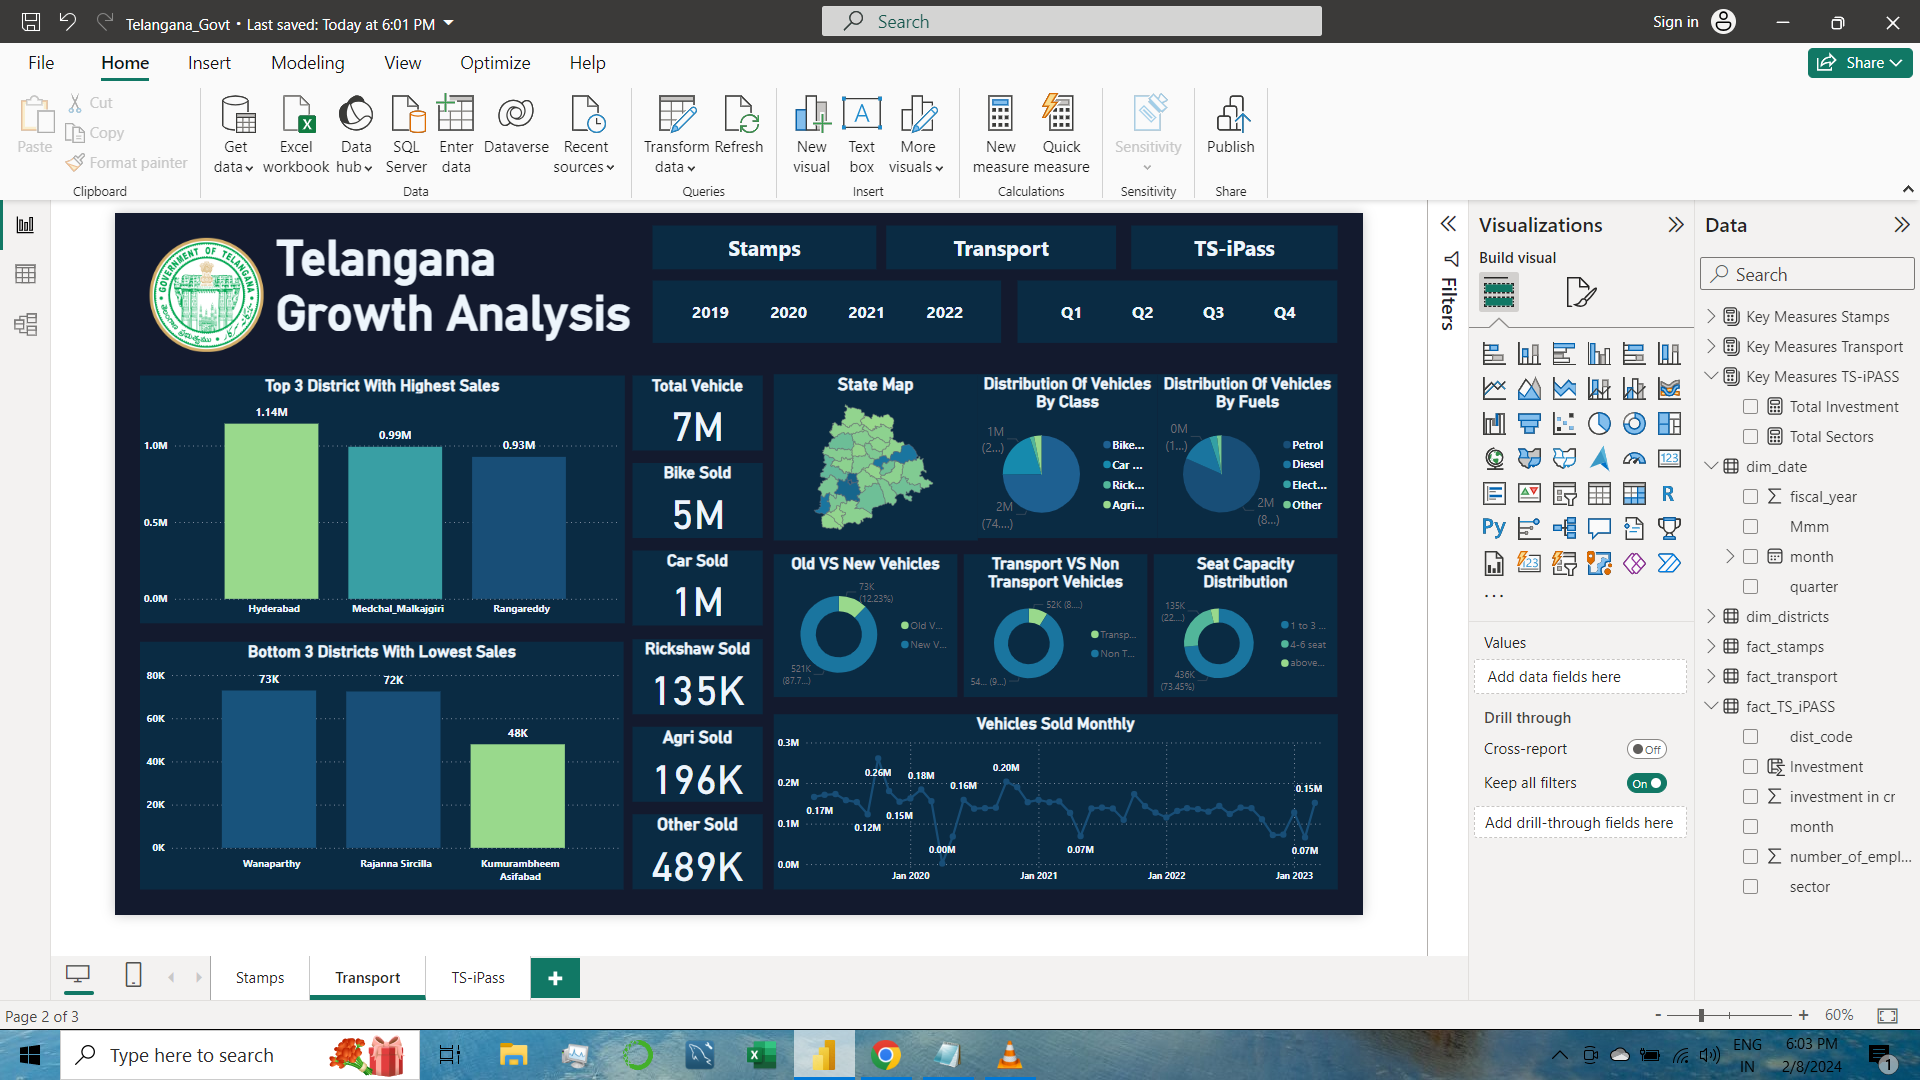

What the dashboard file says about the page in this screenshot:
{"tool":"powerbi","page":{"name":"Transport","canvas":[1664,936],"ordinal":1},"visuals":[{"type":"slicer","fields":{"Values":["dim_date.fiscal_year"]},"box":[716.7,90,465,83.3],"z":0},{"type":"slicer","fields":{"Values":["dim_date.quarter"]},"box":[1203.3,90,426.7,83.3],"z":1000},{"type":"clusteredColumnChart","title":"Top 3 District With Highest Sales","fields":{"Category":["dim_districts.district"],"Y":["Key Measures Transport.Total Vehicle Sold"]},"box":[34,216,646,330],"z":2000},{"type":"clusteredColumnChart","title":"Bottom 3 Districts With Lowest Sales","fields":{"Category":["dim_districts.district"],"Y":["Key Measures Transport.Total Vehicle Sold"]},"box":[33.3,571.7,645,330],"z":3000},{"type":"lineChart","title":"Vehicles Sold Monthly","fields":{"Category":["dim_date.month"],"Y":["Key Measures Transport.Total Vehicle Sold"]},"box":[878.3,668.3,751.7,233.3],"z":4000},{"type":"donutChart","title":"Old VS New Vehicles","fields":{"Y":["Key Measures Transport.Old Vehicles","Key Measures Transport.New Vehicles"]},"box":[878.3,455,245,190],"z":5000},{"type":"pieChart","title":"Distribution Of Vehicles By Class","fields":{"Y":["Key Measures Transport.Bike sOLD","Key Measures Transport.Car Sold","Key Measures Transport.Rickshaw Sold","Key Measures Transport.Agriculture Sold"]},"box":[1150,215,240,218.8],"z":6000},{"type":"card","title":"Other Sold","fields":{"Values":["Key Measures Transport.Other Vechile Sold"]},"box":[690,801.7,173.3,100],"z":7000},{"type":"card","title":"Agri Sold","fields":{"Values":["Key Measures Transport.Agriculture Sold"]},"box":[690,684.7,173.3,100],"z":8000},{"type":"card","title":"Rickshaw Sold","fields":{"Values":["Key Measures Transport.Rickshaw Sold"]},"box":[690,567.7,173.3,100],"z":9000},{"type":"card","title":"Car Sold","fields":{"Values":["Key Measures Transport.Used Vehicles Sold"]},"box":[690,450.7,173.3,100],"z":10000},{"type":"shapeMap","title":"State Map","fields":{"Category":["dim_districts.district"],"Value":["Key Measures Transport.Total Vehicle Sold"]},"box":[878.3,215,271.7,221.7],"z":11000},{"type":"card","title":"Bike Sold","fields":{"Values":["Key Measures Transport.New Vehicles Sold"]},"box":[690,333.7,173.3,100],"z":12000},{"type":"card","title":"Total Vehicle ","fields":{"Values":["Key Measures Transport.Total Vehicle Sold"]},"box":[690,216.7,173.3,100],"z":13000},{"type":"image","box":[33.3,28.3,176.7,161.7],"z":14000},{"type":"textbox","box":[210,16.7,506.7,173.3],"z":15000},{"type":"actionButton","box":[716.7,16.7,298.3,58.3],"z":16000},{"type":"actionButton","box":[1355,16.7,275,58.3],"z":17000},{"type":"actionButton","box":[1028.3,16.7,306.7,58.3],"z":18000},{"type":"donutChart","title":"Transport VS Non Transport Vehicles","fields":{"Y":["Key Measures Transport.Transport Vehicles","Key Measures Transport.Non Transport"]},"box":[1131.7,455,245,190],"z":19000},{"type":"donutChart","title":"Seat Capacity Distribution","fields":{"Y":["Key Measures Transport.1 to 3 seat","Key Measures Transport.4-6 seat","Key Measures Transport.above 6 seat"]},"box":[1385,455,245,190],"z":20000},{"type":"pieChart","title":"Distribution Of Vehicles By Fuels","fields":{"Y":["Key Measures Transport.Petrol","Key Measures Transport.Diesel","Key Measures Transport.Electric","Key Measures Transport.Other Fuel type"]},"box":[1390,215,240,218.3],"z":21000}]}

Visuals, with their boxes on the page's 1664x936 design canvas (x1, y1, x2, y2). These are canvas units, not pixel positions in the 1920x1080 screenshot, which may show the page scaled, cropped or inside an application window:
slicer - dim_date.fiscal_year: {"x1": 717, "y1": 90, "x2": 1182, "y2": 173}
slicer - dim_date.quarter: {"x1": 1203, "y1": 90, "x2": 1630, "y2": 173}
"Top 3 District With Highest Sales" clusteredColumnChart: {"x1": 34, "y1": 216, "x2": 680, "y2": 546}
"Bottom 3 Districts With Lowest Sales" clusteredColumnChart: {"x1": 33, "y1": 572, "x2": 678, "y2": 902}
"Vehicles Sold Monthly" lineChart: {"x1": 878, "y1": 668, "x2": 1630, "y2": 902}
"Old VS New Vehicles" donutChart: {"x1": 878, "y1": 455, "x2": 1123, "y2": 645}
"Distribution Of Vehicles By Class" pieChart: {"x1": 1150, "y1": 215, "x2": 1390, "y2": 434}
"Other Sold" card: {"x1": 690, "y1": 802, "x2": 863, "y2": 902}
"Agri Sold" card: {"x1": 690, "y1": 685, "x2": 863, "y2": 785}
"Rickshaw Sold" card: {"x1": 690, "y1": 568, "x2": 863, "y2": 668}
"Car Sold" card: {"x1": 690, "y1": 451, "x2": 863, "y2": 551}
"State Map" shapeMap: {"x1": 878, "y1": 215, "x2": 1150, "y2": 437}
"Bike Sold" card: {"x1": 690, "y1": 334, "x2": 863, "y2": 434}
"Total Vehicle " card: {"x1": 690, "y1": 217, "x2": 863, "y2": 317}
image: {"x1": 33, "y1": 28, "x2": 210, "y2": 190}
textbox: {"x1": 210, "y1": 17, "x2": 717, "y2": 190}
actionButton: {"x1": 717, "y1": 17, "x2": 1015, "y2": 75}
actionButton: {"x1": 1355, "y1": 17, "x2": 1630, "y2": 75}
actionButton: {"x1": 1028, "y1": 17, "x2": 1335, "y2": 75}
"Transport VS Non Transport Vehicles" donutChart: {"x1": 1132, "y1": 455, "x2": 1377, "y2": 645}
"Seat Capacity Distribution" donutChart: {"x1": 1385, "y1": 455, "x2": 1630, "y2": 645}
"Distribution Of Vehicles By Fuels" pieChart: {"x1": 1390, "y1": 215, "x2": 1630, "y2": 433}
